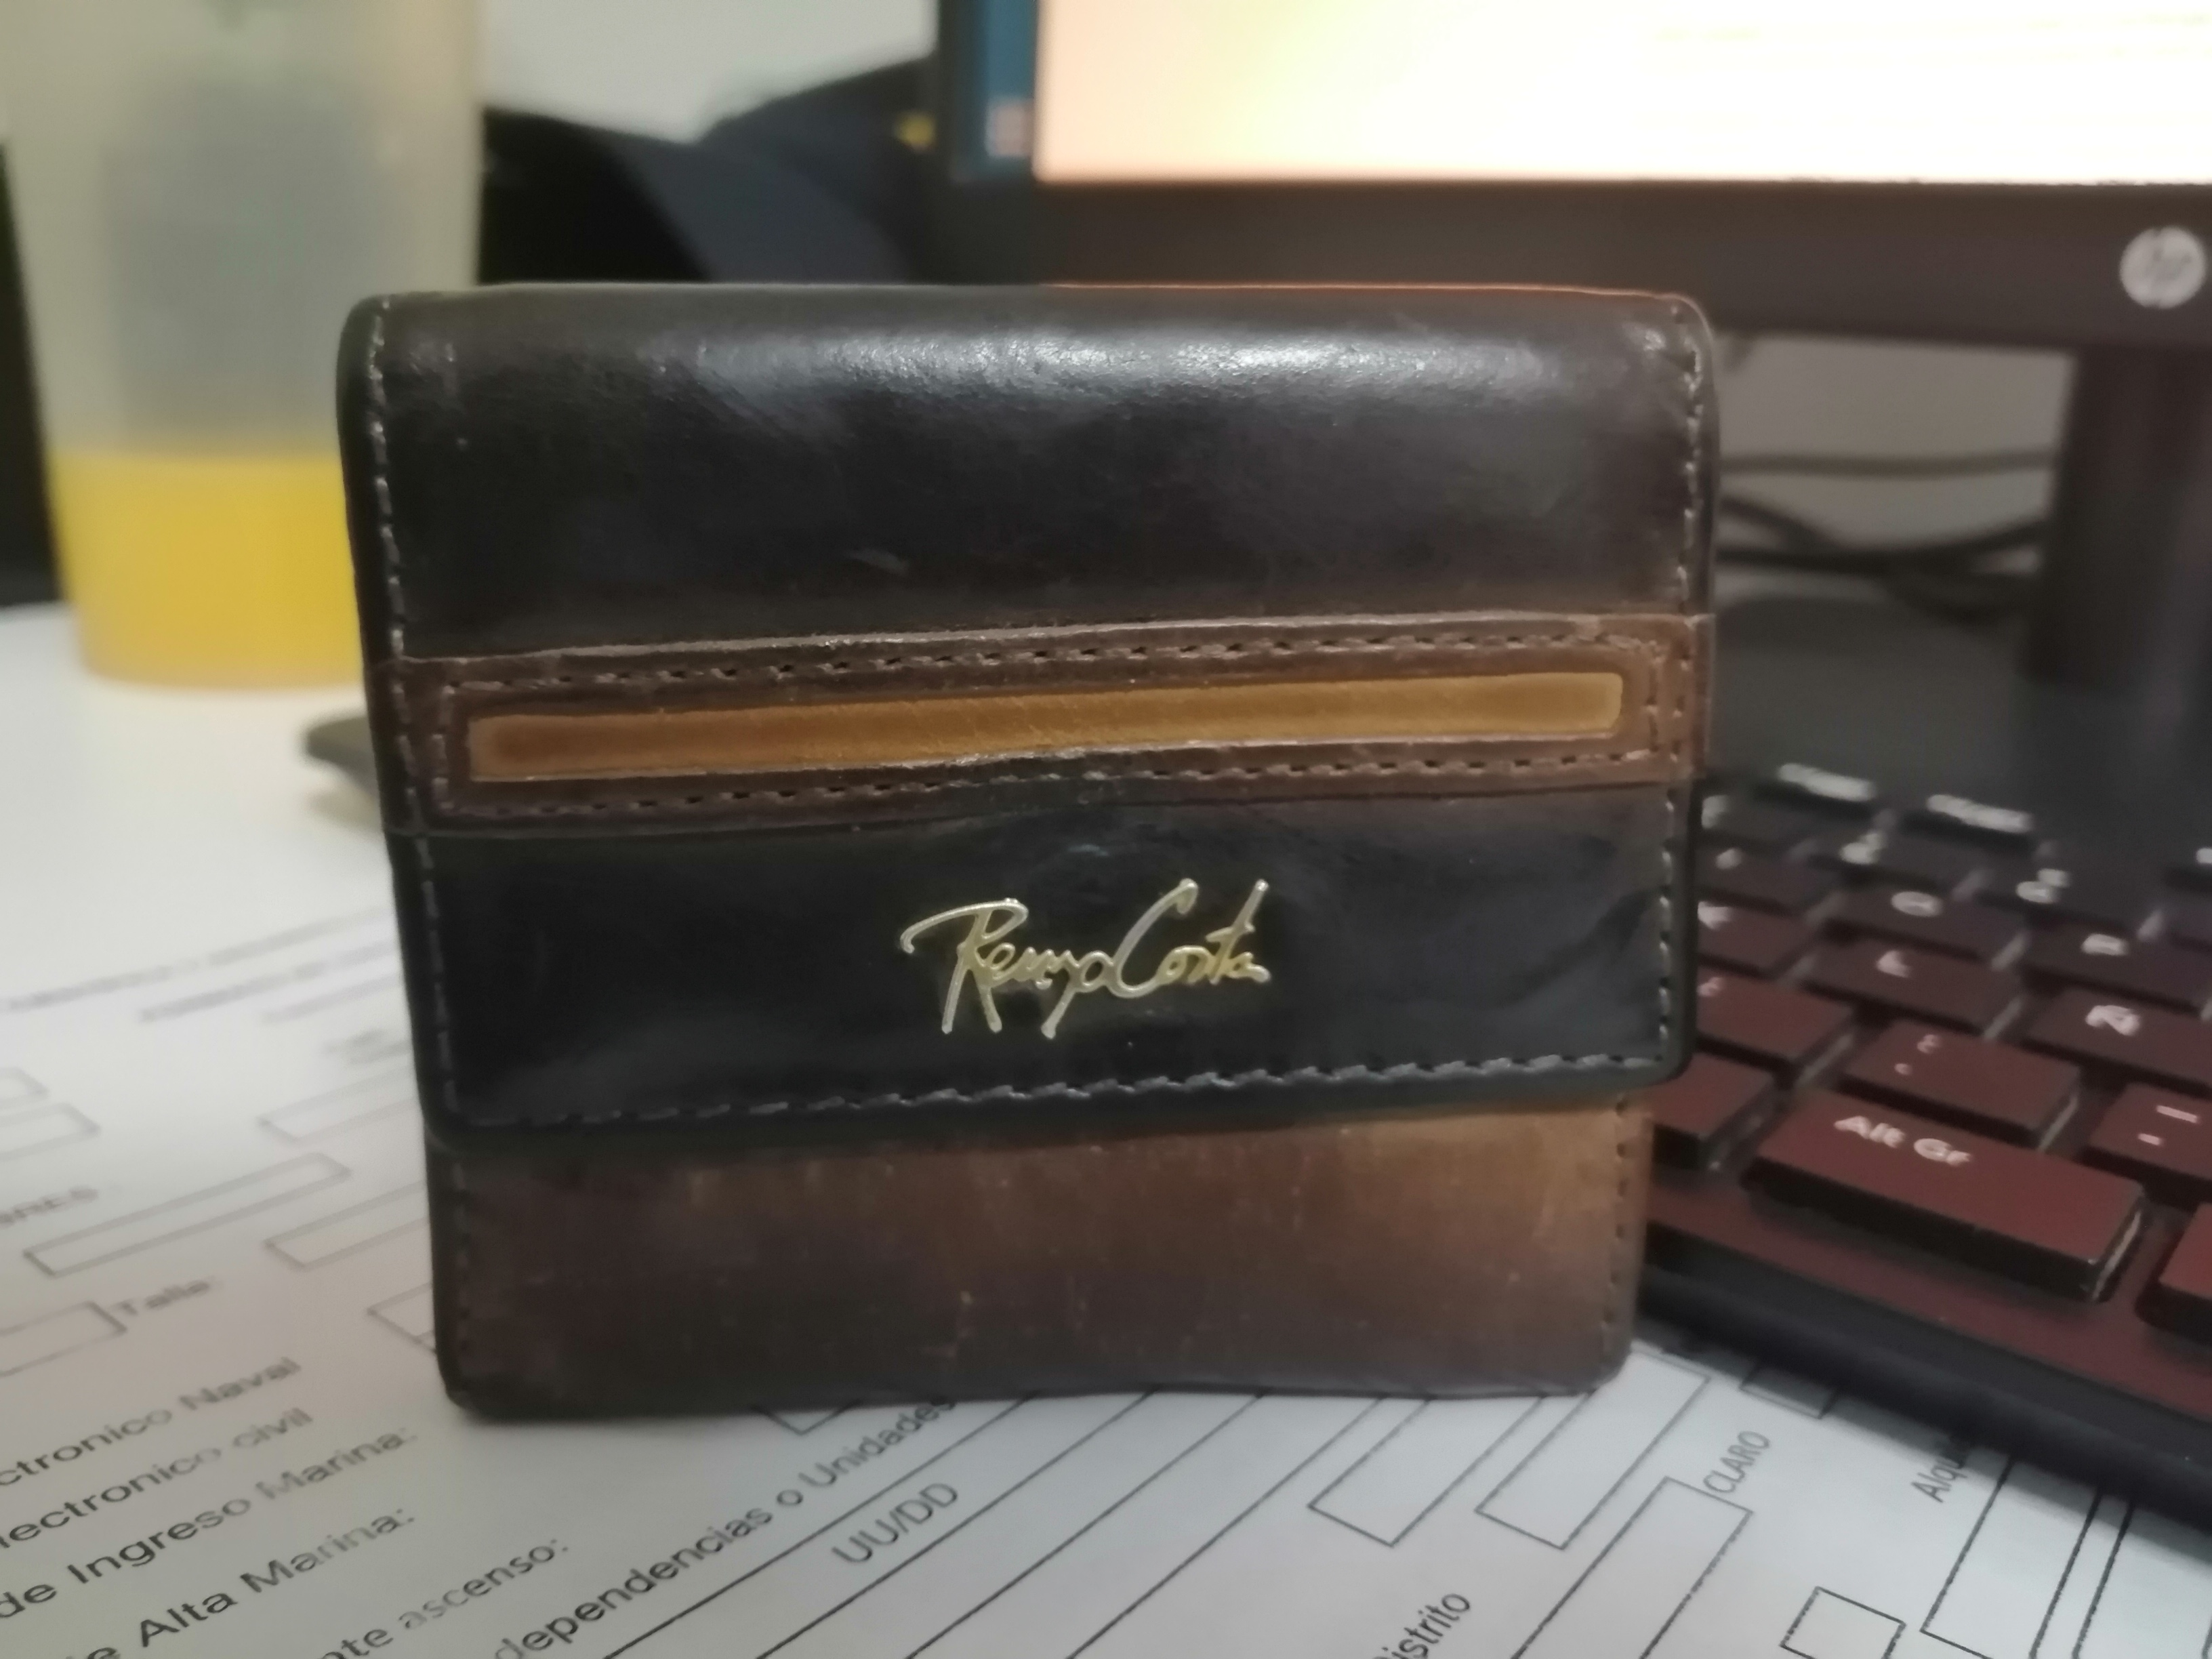monedero: (280, 230, 1759, 1495)
